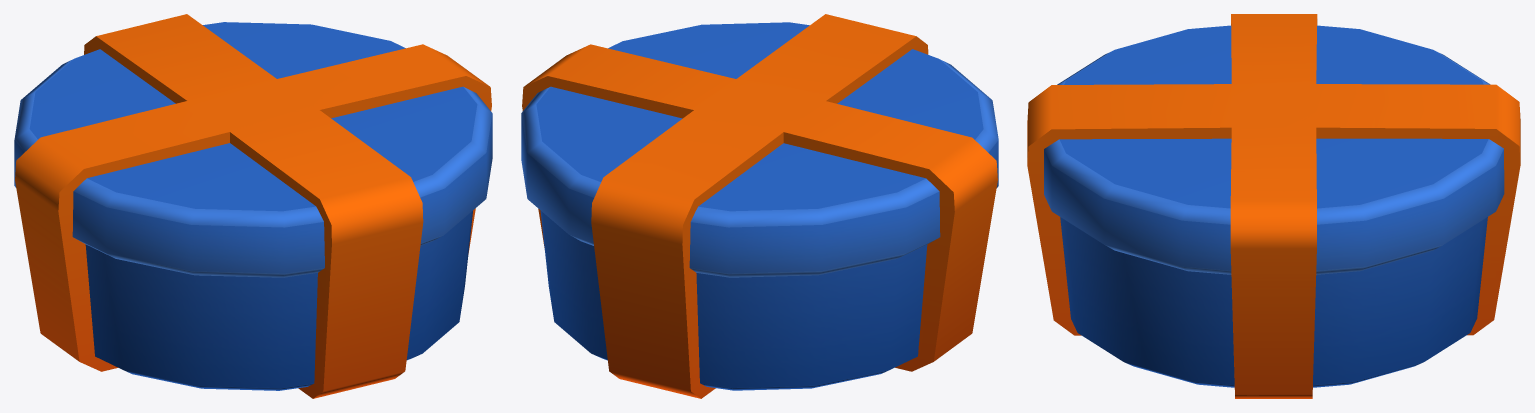
File: giftbox_044.fbx
3 renders of one model, left to right at view 1: azimuth 30°, elevation 25°; view 2: azimuth 150°, elevation 25°; view 3: azimuth 270°, elevation 25°, orthographic.
Visible parts, largest first — view 1: giftbox_044; view 2: giftbox_044; view 3: giftbox_044.
Boxes of the visible parts, x1,y1,x2,y2 form: giftbox_044: (14, 14, 492, 398); giftbox_044: (521, 14, 998, 398); giftbox_044: (1027, 14, 1520, 398).
Size of the model in its own units: 235 by 232 by 109.
